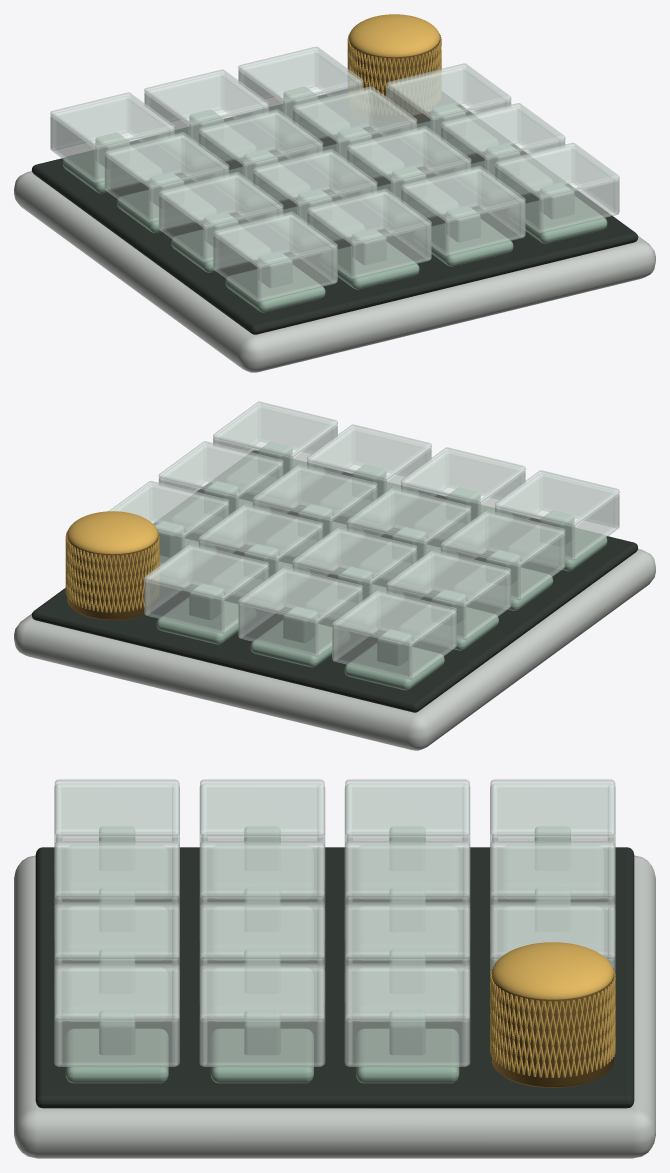
File: klawos.glb
The picture shows the model from 3 angles, top to bottom: view 1: azimuth 30°, elevation 25°; view 2: azimuth 150°, elevation 25°; view 3: azimuth 270°, elevation 25°; orthographic projection. The views are drawn at different scales.
Visible parts, largest first — view 1: Case, Inner plate, Gold rounded knob, Clear cap top.014, Clear cap top, Clear cap top.001, Clear cap top.004, Clear cap top.007, Clear cap top.003, Clear cap top.006, Clear cap top.011, Clear cap top.002 (+77 smaller); view 2: Case, Inner plate, Gold rounded knob, Clear cap top.009, Clear cap top.003, Clear cap top.013, Clear cap top.014, Clear cap top.001, Clear cap top.004, Clear cap top.010, Clear cap top.005, Clear cap top.008 (+76 smaller); view 3: Inner plate, Case, Gold rounded knob, Clear cap top, Clear cap top.011, Clear cap top.014, Clear cap top.013, Clear cap top.003, Clear cap top.006, Clear cap top.007, Clear cap top.010, Clear cap top.005 (+47 smaller).
Part boxes in pixels (x1=…): Case: x1=14, y1=171, x2=655, y2=372; Inner plate: x1=31, y1=94, x2=638, y2=334; Gold rounded knob: x1=349, y1=14, x2=439, y2=119; Clear cap top.014: x1=494, y1=142, x2=619, y2=198; Clear cap top: x1=50, y1=92, x2=175, y2=148; Clear cap top.001: x1=144, y1=69, x2=268, y2=125; Clear cap top.004: x1=198, y1=109, x2=323, y2=165; Clear cap top.007: x1=158, y1=172, x2=283, y2=227; Clear cap top.003: x1=104, y1=132, x2=229, y2=187; Clear cap top.006: x1=386, y1=63, x2=511, y2=119; Clear cap top.011: x1=213, y1=211, x2=337, y2=267; Clear cap top.002: x1=238, y1=46, x2=362, y2=102; Case: x1=14, y1=549, x2=655, y2=750; Inner plate: x1=32, y1=450, x2=637, y2=712; Gold rounded knob: x1=67, y1=511, x2=158, y2=619; Clear cap top.009: x1=252, y1=464, x2=377, y2=519; Clear cap top.003: x1=386, y1=549, x2=511, y2=605; Clear cap top.013: x1=307, y1=424, x2=431, y2=480; Clear cap top.014: x1=213, y1=401, x2=337, y2=457; Clear cap top.001: x1=238, y1=566, x2=362, y2=622; Clear cap top.004: x1=292, y1=526, x2=417, y2=582; Clear cap top.010: x1=158, y1=441, x2=283, y2=497; Clear cap top.005: x1=198, y1=504, x2=323, y2=559; Clear cap top.008: x1=346, y1=487, x2=471, y2=542; Inner plate: x1=35, y1=847, x2=634, y2=1108; Case: x1=14, y1=855, x2=655, y2=1158; Gold rounded knob: x1=492, y1=942, x2=613, y2=1087; Clear cap top: x1=490, y1=779, x2=615, y2=836; Clear cap top.011: x1=54, y1=779, x2=179, y2=836; Clear cap top.014: x1=54, y1=963, x2=179, y2=1020; Clear cap top.013: x1=54, y1=902, x2=179, y2=959; Clear cap top.003: x1=345, y1=779, x2=469, y2=836; Clear cap top.006: x1=345, y1=963, x2=469, y2=1020; Clear cap top.007: x1=200, y1=779, x2=324, y2=836; Clear cap top.010: x1=200, y1=963, x2=324, y2=1020; Clear cap top.005: x1=345, y1=902, x2=469, y2=959.
Size of the model in its own units: 4.42 by 1.27 by 4.42.
